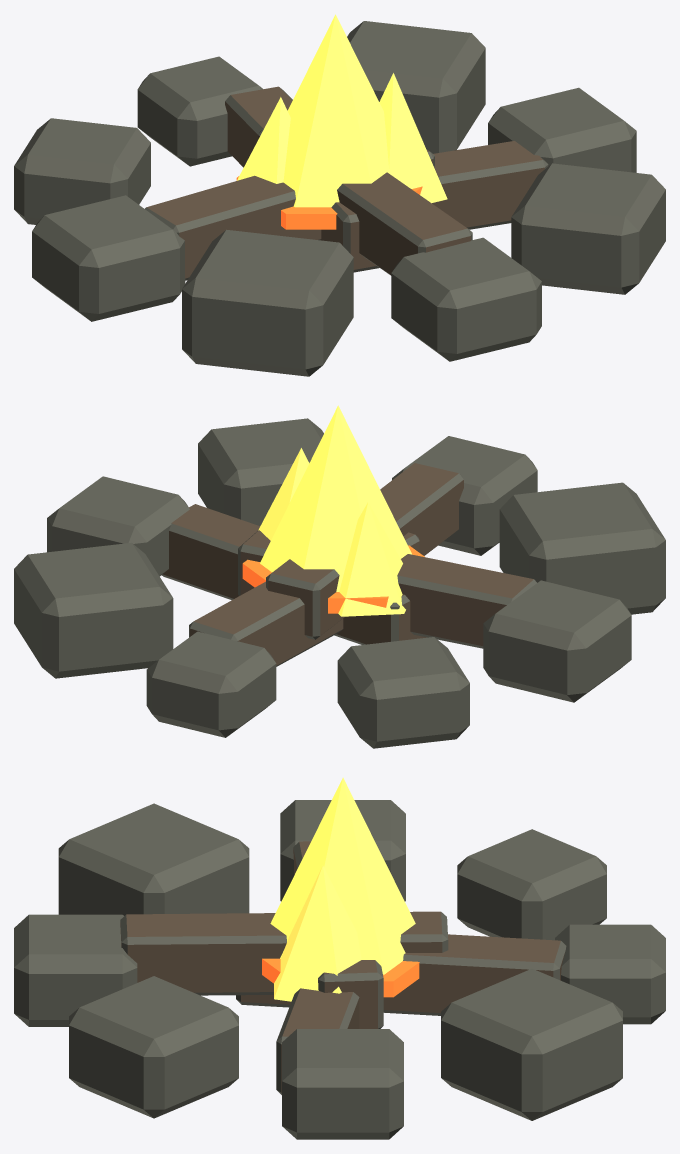
The model's file is campfire_ring.glb.
The picture shows the model from 3 angles, top to bottom: view 1: azimuth 30°, elevation 25°; view 2: azimuth 150°, elevation 25°; view 3: azimuth 270°, elevation 25°; orthographic projection. The views are drawn at different scales.
Visible parts, largest first — view 1: Campfire_Ring; view 2: Campfire_Ring; view 3: Campfire_Ring.
Boxes of the visible parts, left/top/right/bottom form: Campfire_Ring: left=14, top=14, right=665, bottom=376; Campfire_Ring: left=14, top=405, right=665, bottom=748; Campfire_Ring: left=14, top=777, right=665, bottom=1139.
Bounding box in the file's own units: 1.11 × 0.427 × 1.1.
